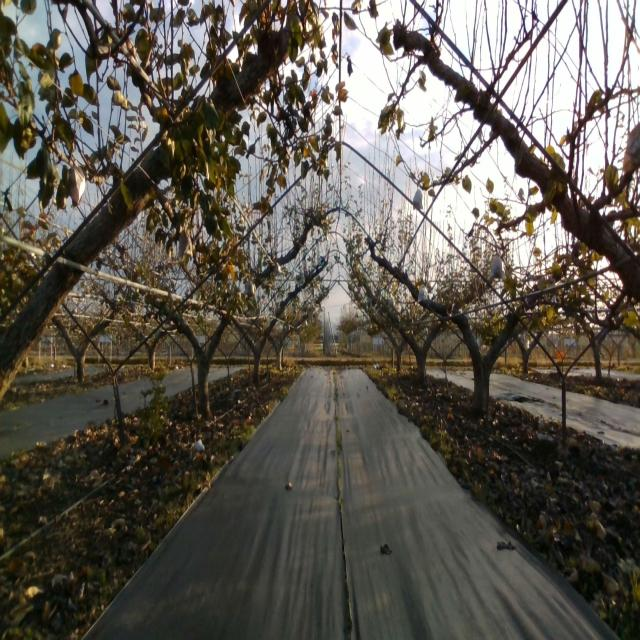pearbags: (68, 158, 86, 206), (488, 252, 506, 283), (177, 228, 193, 260), (412, 184, 422, 210), (417, 284, 429, 304)
